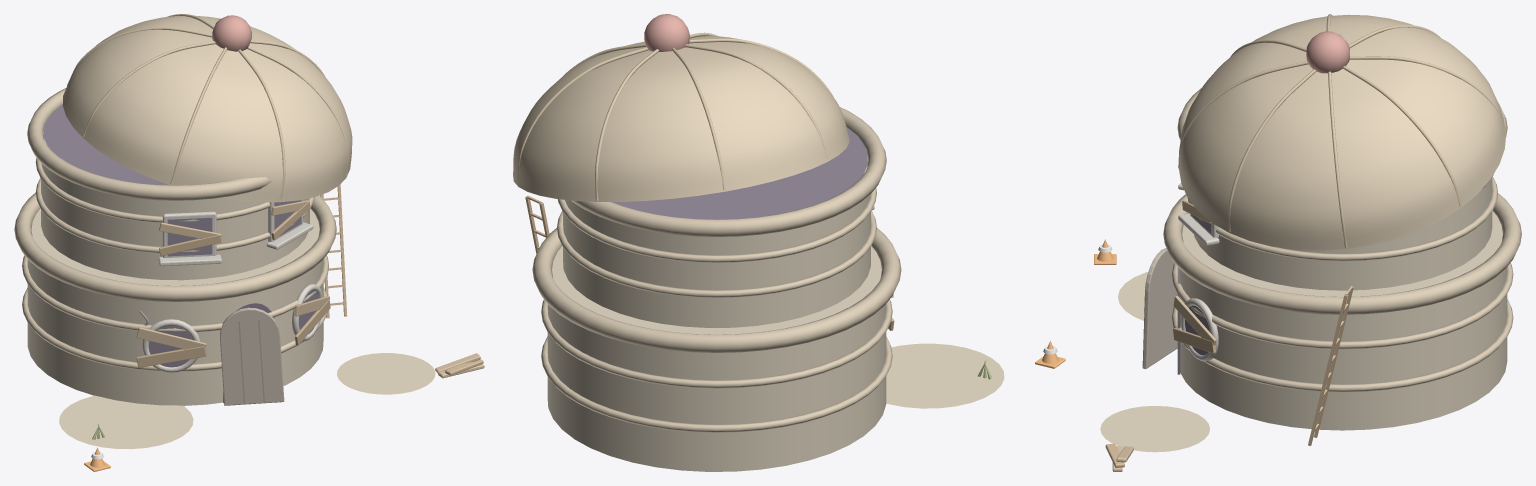
File: building_dumpling_L02.glb
3 renders of one model, left to right at view 1: azimuth 30°, elevation 25°; view 2: azimuth 150°, elevation 25°; view 3: azimuth 270°, elevation 25°, orthographic. The views are drawn at different scales.
Visible parts, largest first — view 1: Body, dumpling_L2; view 2: Body, dumpling_L2; view 3: Body, dumpling_L2.
Boxes of the visible parts, x1,y1,x2,y2 form: Body: (14, 14, 352, 405); dumpling_L2: (59, 184, 484, 471); Body: (513, 14, 901, 471); dumpling_L2: (525, 195, 1065, 408); Body: (1142, 14, 1521, 430); dumpling_L2: (1094, 239, 1353, 471).
Size of the model in its own units: 20.56 by 15.8 by 17.13.
